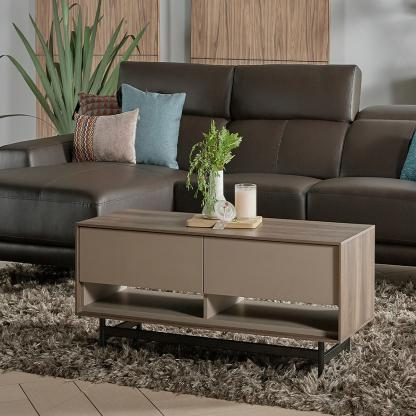bantal: (122, 85, 179, 168), (72, 113, 136, 162)
gelas: (233, 183, 260, 222)
sova: (1, 63, 415, 278)
tanaman: (68, 209, 379, 358), (189, 132, 235, 206)
